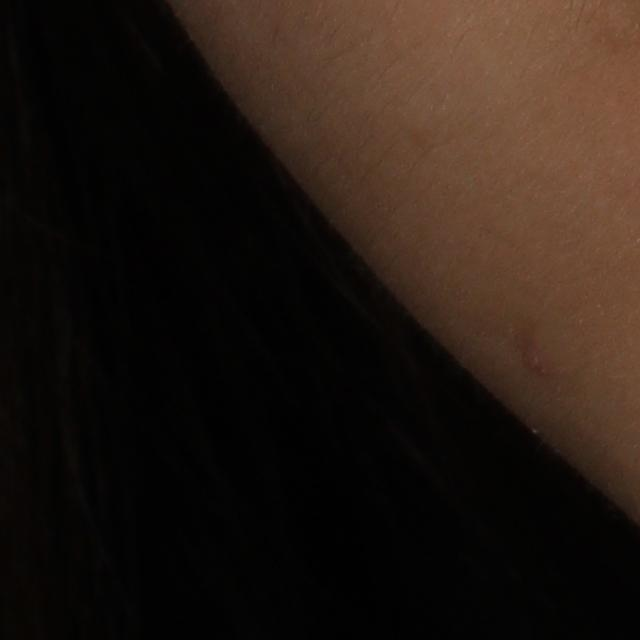papule: (523, 340, 550, 374)
